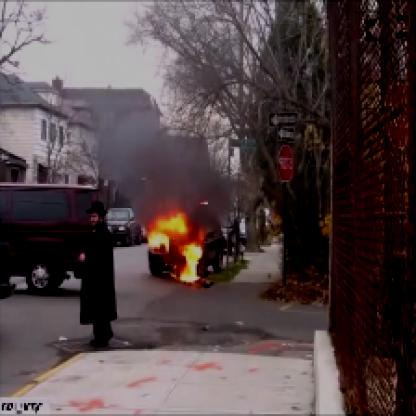Fire: (149, 188, 217, 286)
